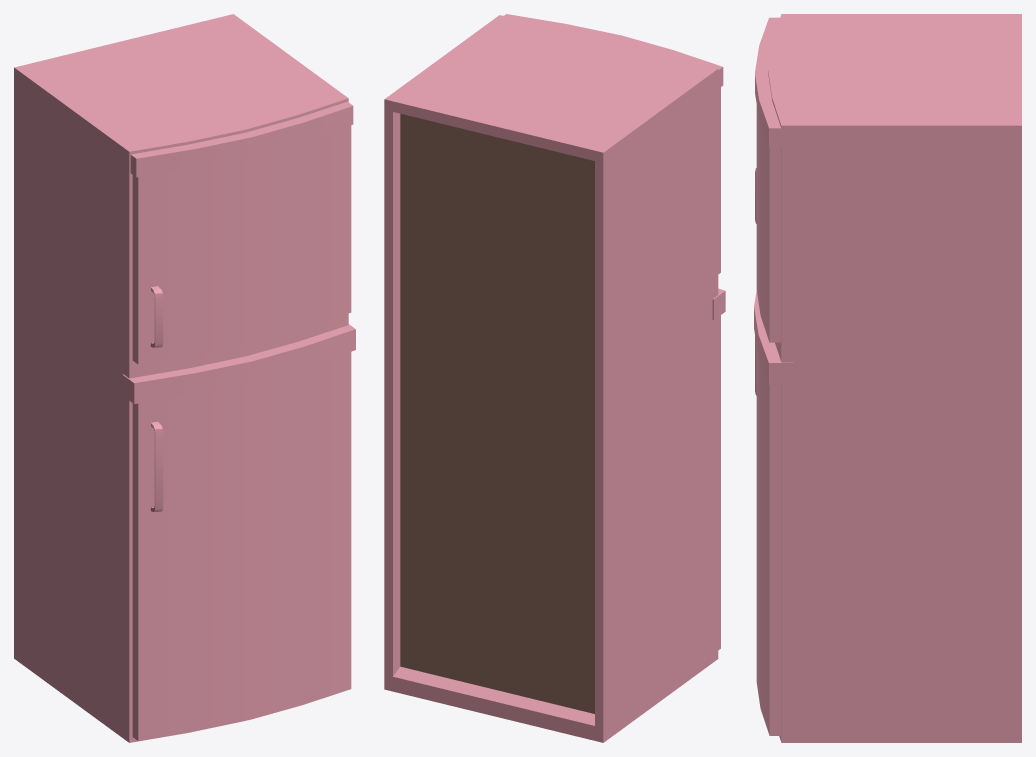
Rendered from fridge.glb.
3 renders of one model, left to right at view 1: azimuth 30°, elevation 25°; view 2: azimuth 150°, elevation 25°; view 3: azimuth 270°, elevation 25°, orthographic. The views are drawn at different scales.
Visible parts, largest first — view 1: Kitchen_Fridge; view 2: Kitchen_Fridge; view 3: Kitchen_Fridge.
Part boxes in pixels (left/top/right/bottom): Kitchen_Fridge: left=14, top=14, right=355, bottom=742; Kitchen_Fridge: left=384, top=14, right=725, bottom=742; Kitchen_Fridge: left=754, top=14, right=1021, bottom=742.
Size of the model in its own units: 1.3 by 3.31 by 1.3.
